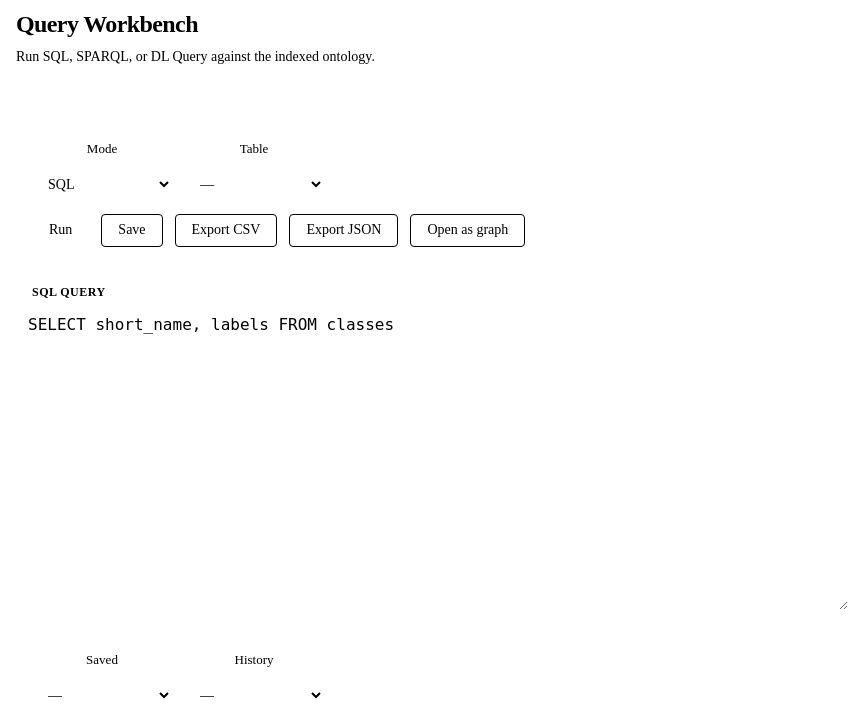
QueryWorkbenchPanel › switches back to SQL starter query
Select "SPARQL" in the dropdown labelled "Mode": (102,185) [32,167,172,202]
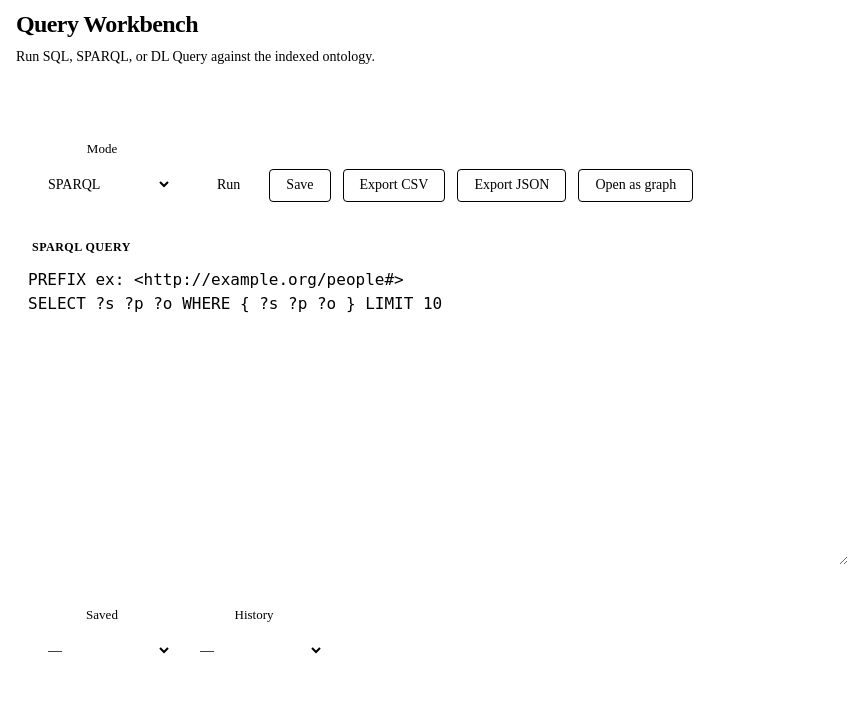
Select "SQL" in the dropdown labelled "Mode": (102,185) [32,167,172,202]
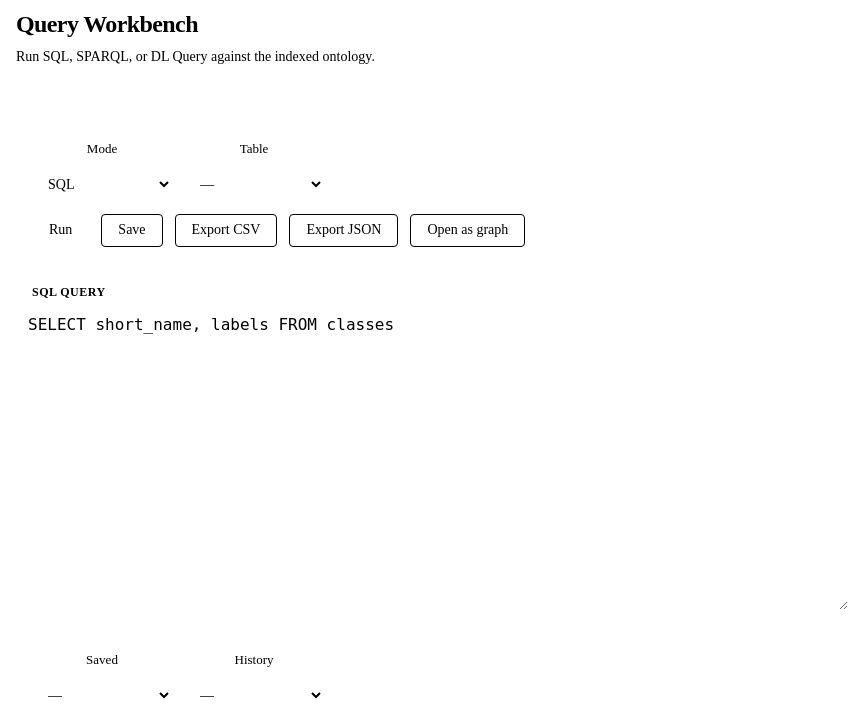
Check: the text box holds "SELECT short_name, labels FROM classes", box [16,304,848,610]
Check: the text "SQL query" is shown, box [32,285,106,299]
